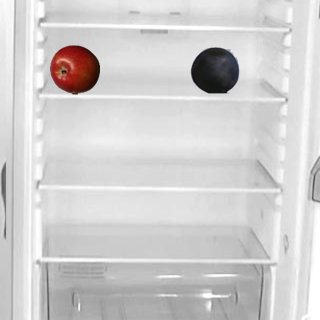Apple Braeburn: (49, 44, 99, 94)
Grape Blue: (189, 44, 239, 94)
